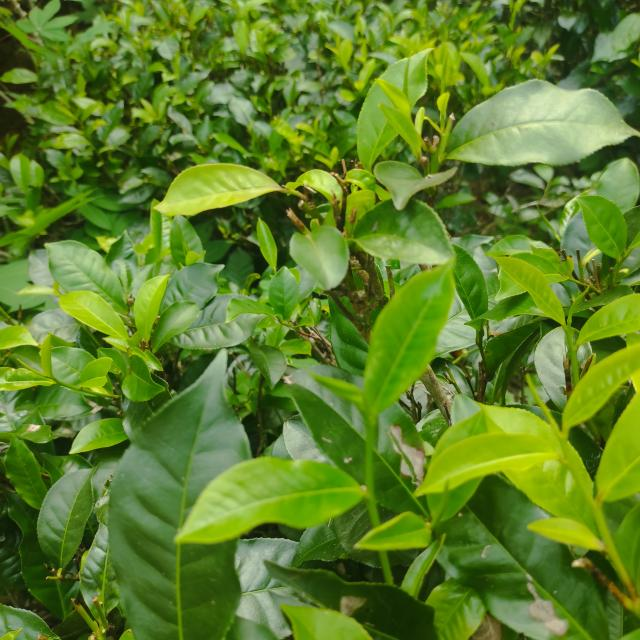unopened_leaf: (302, 367, 377, 425), (520, 366, 566, 439), (427, 474, 460, 529), (14, 351, 54, 384), (568, 281, 597, 321)
